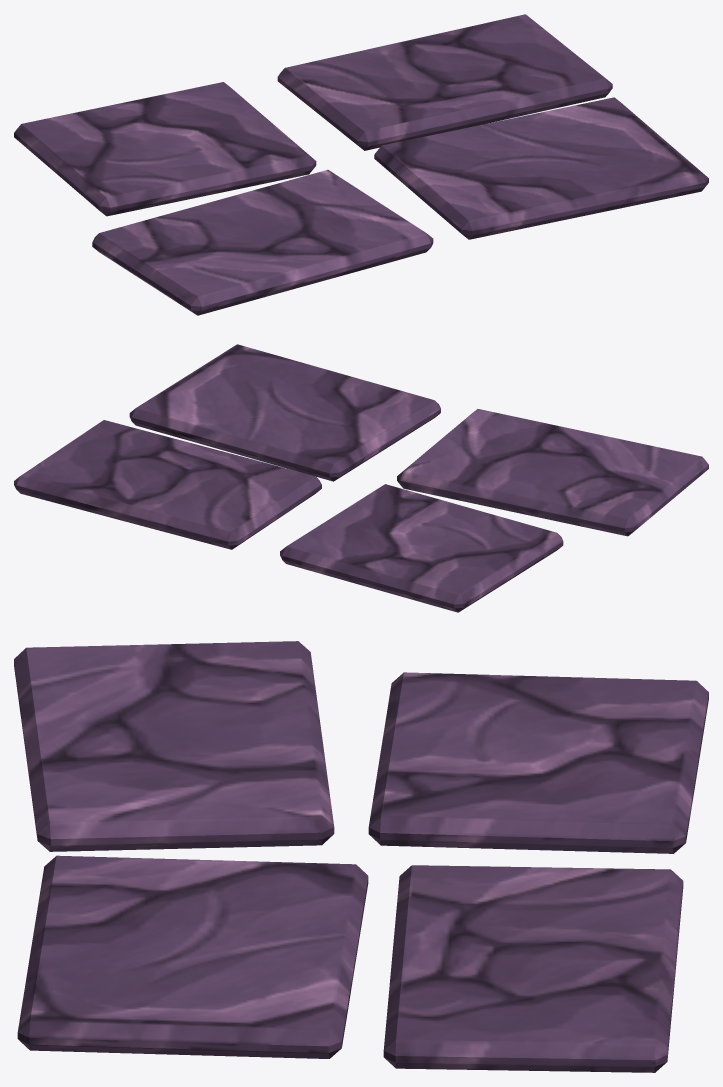
File: mapkit_flags_crystal.fbx
The picture shows the model from 3 angles, top to bottom: view 1: azimuth 30°, elevation 25°; view 2: azimuth 150°, elevation 25°; view 3: azimuth 270°, elevation 25°; orthographic projection. The views are drawn at different scales.
Visible parts, largest first — view 1: Body; view 2: Body; view 3: Body.
Boxes of the visible parts, <box> form: Body: <box>14,14,708,315</box>; Body: <box>14,344,708,612</box>; Body: <box>14,641,708,1072</box>.
Bounding box in the file's own units: 396 × 13 × 282.
1 material, 1 textured.
